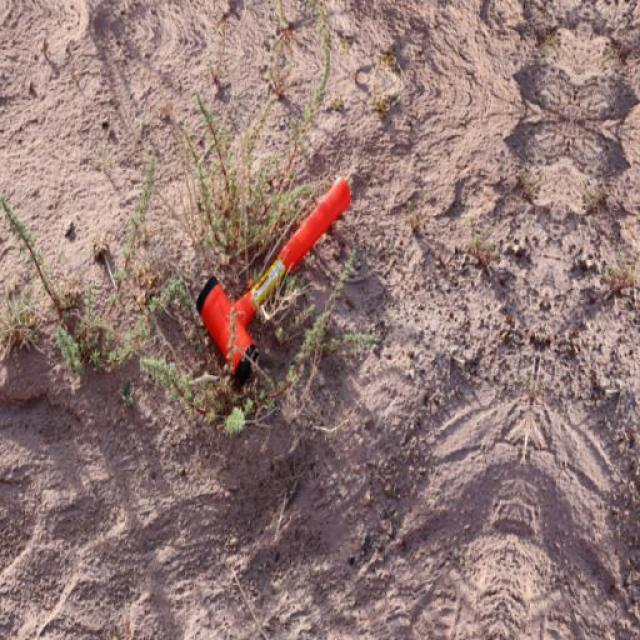mallet: (194, 174, 351, 388)
